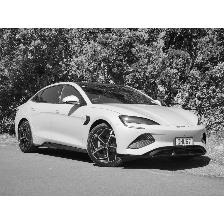EV: (13, 78, 209, 169)
